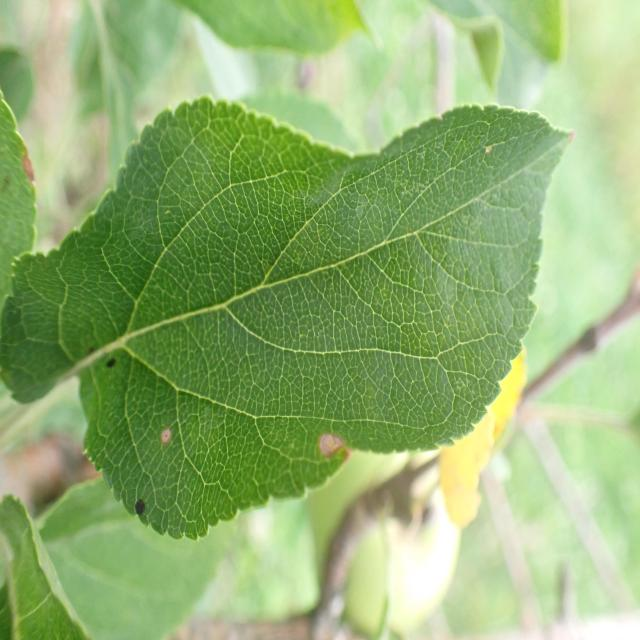Black Rot: (310, 420, 358, 491), (156, 412, 186, 487)
